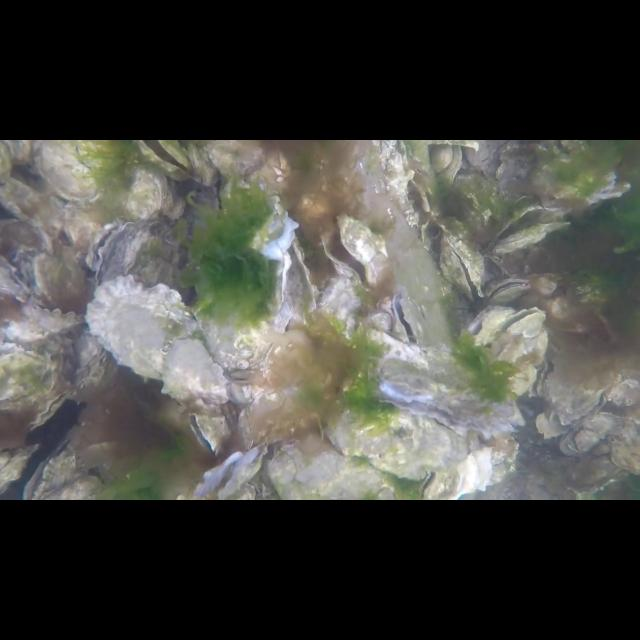Oyster-Closed: (87, 274, 227, 394), (324, 407, 460, 481), (247, 328, 311, 436), (41, 140, 127, 204), (0, 344, 66, 412), (0, 178, 72, 230), (33, 250, 89, 302), (319, 273, 361, 339), (494, 221, 568, 255), (124, 170, 166, 220), (33, 302, 86, 332), (404, 140, 432, 176), (369, 308, 393, 337)
Oyster-Open: (374, 354, 514, 441), (207, 140, 297, 262), (318, 215, 388, 292), (24, 436, 104, 498), (538, 358, 608, 424), (380, 140, 432, 226), (194, 444, 268, 500), (481, 306, 547, 364), (437, 233, 487, 301), (276, 240, 316, 318), (460, 306, 518, 348), (88, 220, 134, 272), (129, 140, 195, 173), (388, 288, 422, 348), (29, 389, 71, 431), (187, 413, 225, 453), (1, 256, 32, 298), (486, 278, 530, 304)
